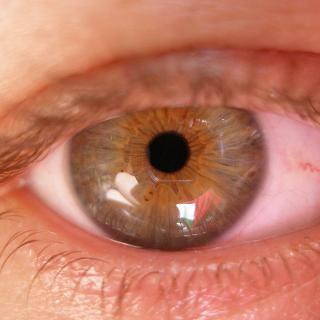pupil: (148, 131, 190, 173)
